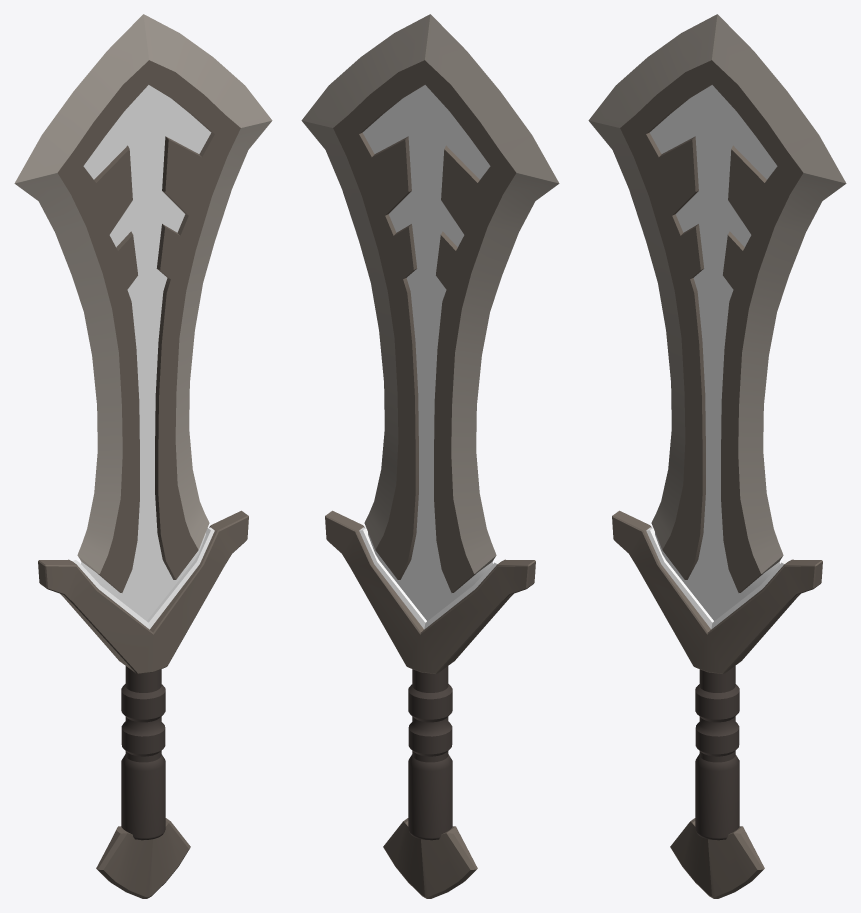
Rendered from GreatSword.fbx.
The picture shows the model from 3 angles, left to right: view 1: azimuth 30°, elevation 25°; view 2: azimuth 150°, elevation 25°; view 3: azimuth 330°, elevation 25°; orthographic projection.
Visible parts, largest first — view 1: bigSwordBlade, bigSwordGuard, bigSwordHandle, handleDetail; view 2: bigSwordBlade, bigSwordGuard, bigSwordHandle, handleDetail; view 3: bigSwordBlade, bigSwordGuard, bigSwordHandle, handleDetail.
Boxes of the visible parts, left/top/right/bottom form: bigSwordBlade: left=14, top=14, right=272, bottom=621; bigSwordGuard: left=38, top=510, right=248, bottom=673; bigSwordHandle: left=121, top=666, right=165, bottom=840; handleDetail: left=96, top=818, right=190, bottom=898; bigSwordBlade: left=301, top=14, right=559, bottom=621; bigSwordGuard: left=325, top=510, right=535, bottom=673; bigSwordHandle: left=408, top=666, right=452, bottom=840; handleDetail: left=383, top=818, right=477, bottom=898; bigSwordBlade: left=588, top=14, right=846, bottom=621; bigSwordGuard: left=612, top=510, right=822, bottom=673; bigSwordHandle: left=695, top=666, right=739, bottom=840; handleDetail: left=670, top=818, right=764, bottom=898.
Size of the model in its own units: 103 by 336 by 15.43.
